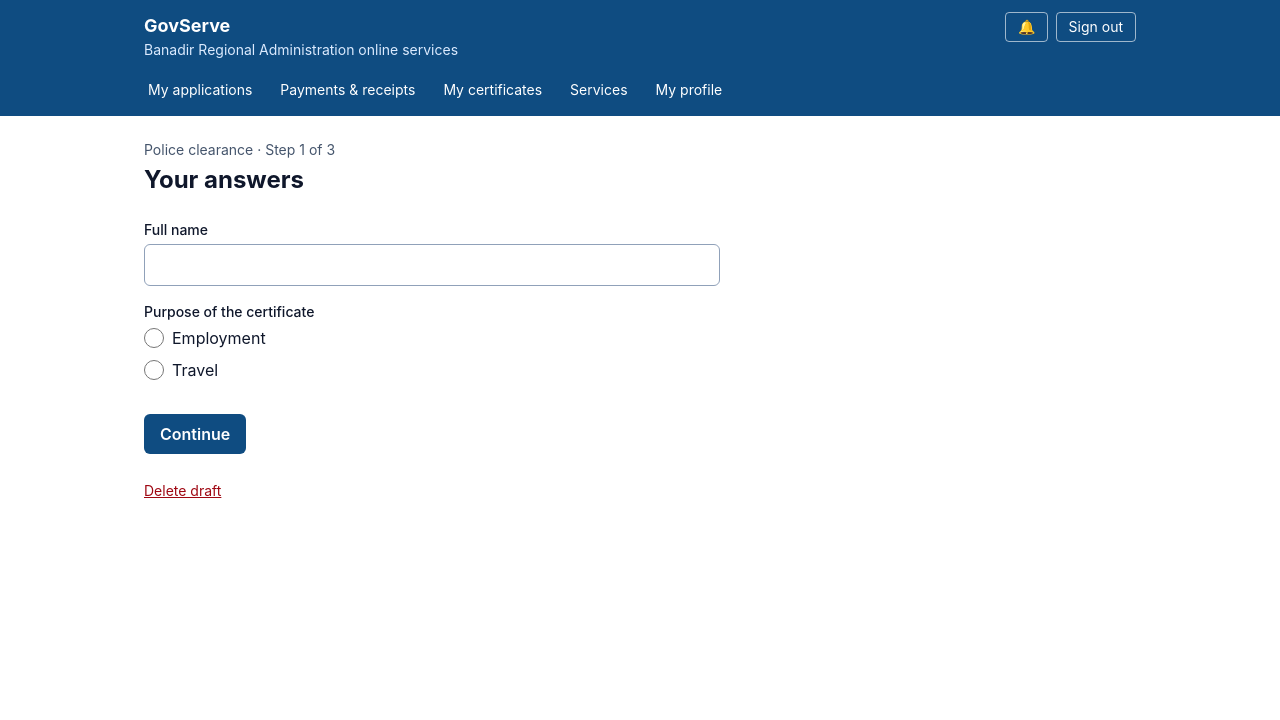
Test: application wizard › should autosave only the changed fields after typing stops
In the field labelled "Full name": x=432, y=265 [144,244,720,286], type "Amina Hassan"
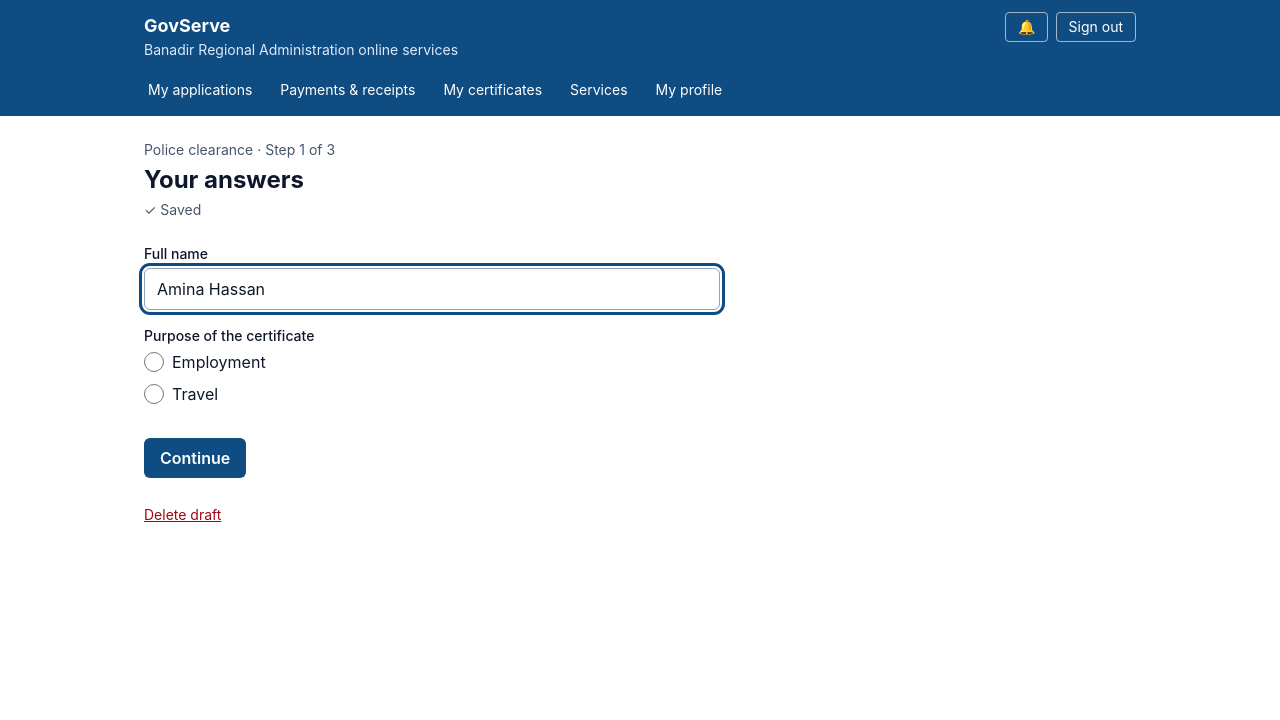
Check: the text "Saved" is shown, box [160,201,201,218]
